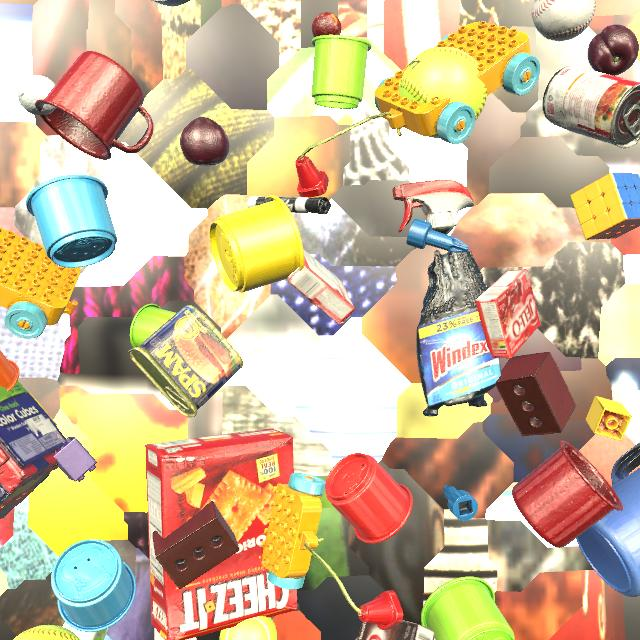ycb_003_cracker_box: (145, 428, 297, 640)
ycb_005_tomato_soup_can: (542, 66, 640, 148)
ycb_007_tuna_fish_can: (152, 0, 190, 6)
ycb_008_pudding_box: (357, 620, 435, 640)
ycb_009_gelatin_box: (475, 269, 541, 358), (287, 249, 355, 324)
ycb_010_potted_meat_can: (128, 305, 243, 417)
ycb_018_plum: (587, 24, 639, 76), (180, 117, 229, 166)
